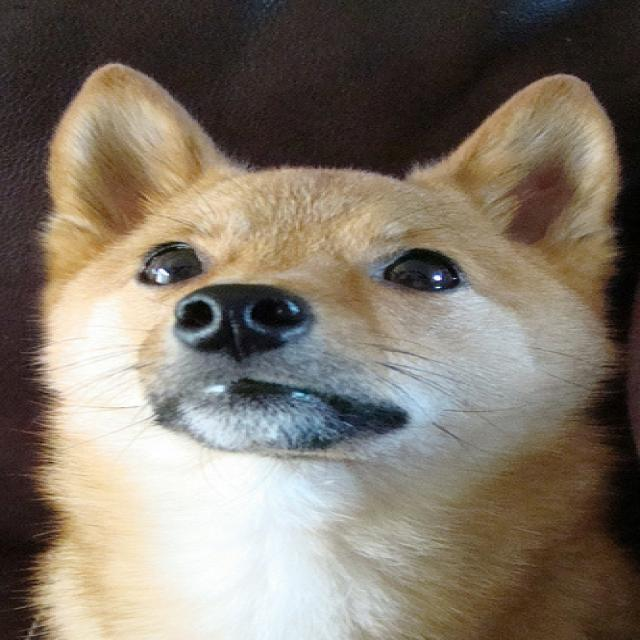dog-shiba_inu: (17, 55, 636, 637)
